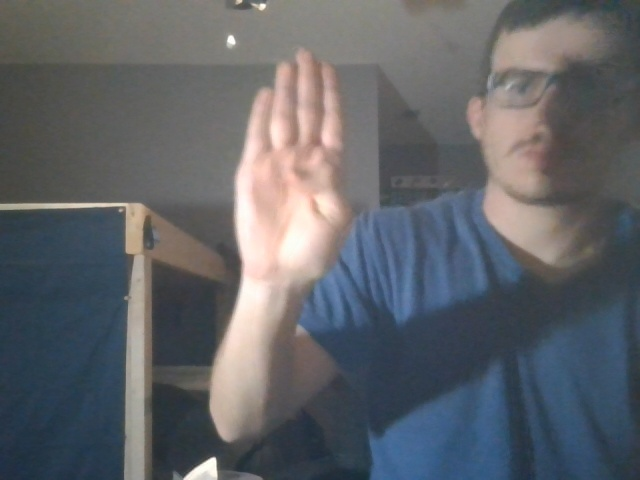B: (224, 40, 355, 287)
